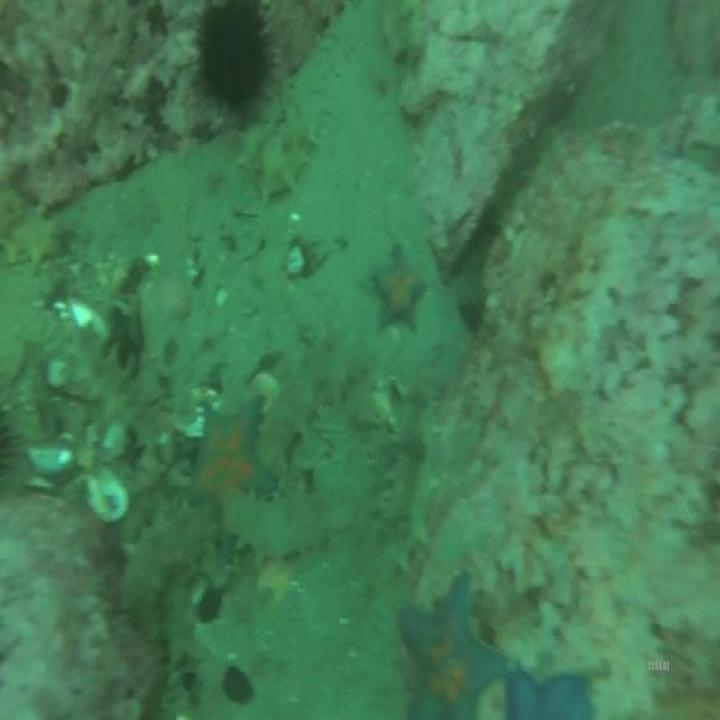echinus: (200, 5, 267, 107)
holothurian: (262, 343, 370, 477), (117, 512, 216, 601), (236, 107, 320, 197), (222, 491, 338, 553), (408, 403, 439, 569), (380, 453, 408, 528)
starfish: (400, 579, 502, 720), (198, 402, 272, 503), (375, 249, 426, 327)
